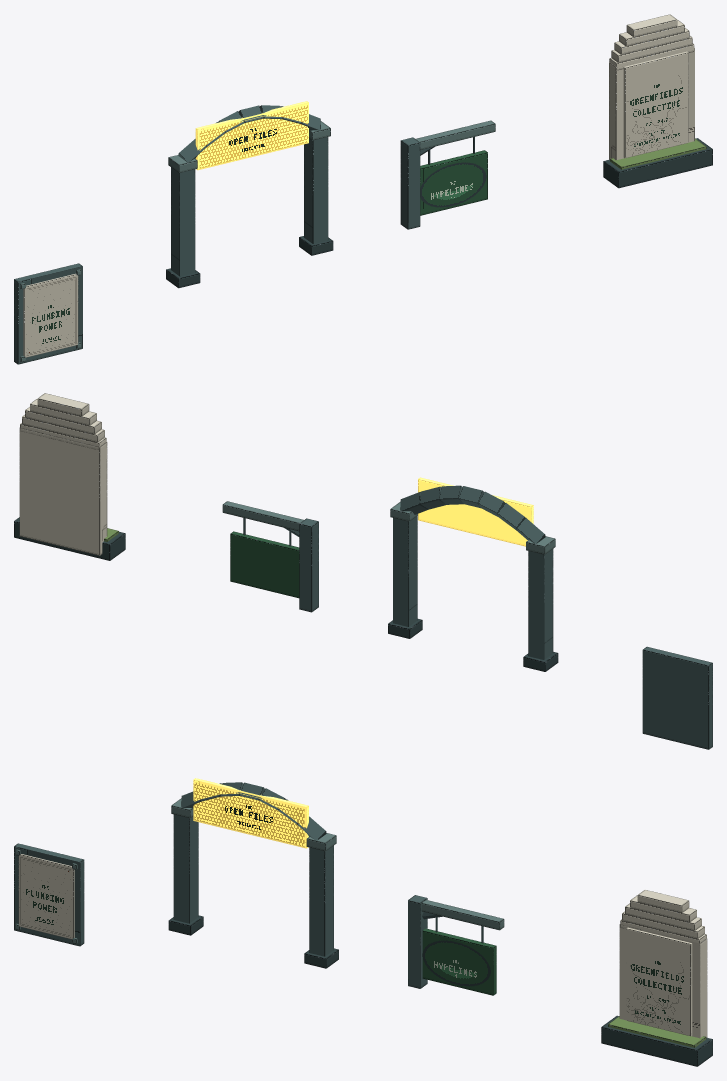
Rendered from signform_pieces.gltf.
3 renders of one model, top to bottom at view 1: azimuth 30°, elevation 25°; view 2: azimuth 150°, elevation 25°; view 3: azimuth 330°, elevation 25°, orthographic.
Visible parts, largest first — view 1: SignformMonument, SignformArchBanner, SignformHangingOval, SignformWallPlaque; view 2: SignformMonument, SignformArchBanner, SignformHangingOval, SignformWallPlaque; view 3: SignformMonument, SignformArchBanner, SignformHangingOval, SignformWallPlaque.
Part boxes in pixels (left/top/right/bottom): SignformMonument: left=603, top=14, right=712, bottom=188; SignformArchBanner: left=166, top=101, right=333, bottom=288; SignformHangingOval: left=400, top=120, right=495, bottom=229; SignformWallPlaque: left=14, top=263, right=82, bottom=364; SignformMonument: left=14, top=393, right=125, bottom=560; SignformArchBanner: left=388, top=477, right=558, bottom=671; SignformHangingOval: left=222, top=501, right=318, bottom=612; SignformWallPlaque: left=642, top=646, right=712, bottom=749; SignformMonument: left=601, top=889, right=712, bottom=1066; SignformArchBanner: left=168, top=778, right=338, bottom=968; SignformHangingOval: left=408, top=895, right=504, bottom=995; SignformWallPlaque: left=14, top=843, right=84, bottom=946.
Size of the model in its own units: 8.83 by 2.45 by 0.45.
Materials: 4 (4 with a texture image).
